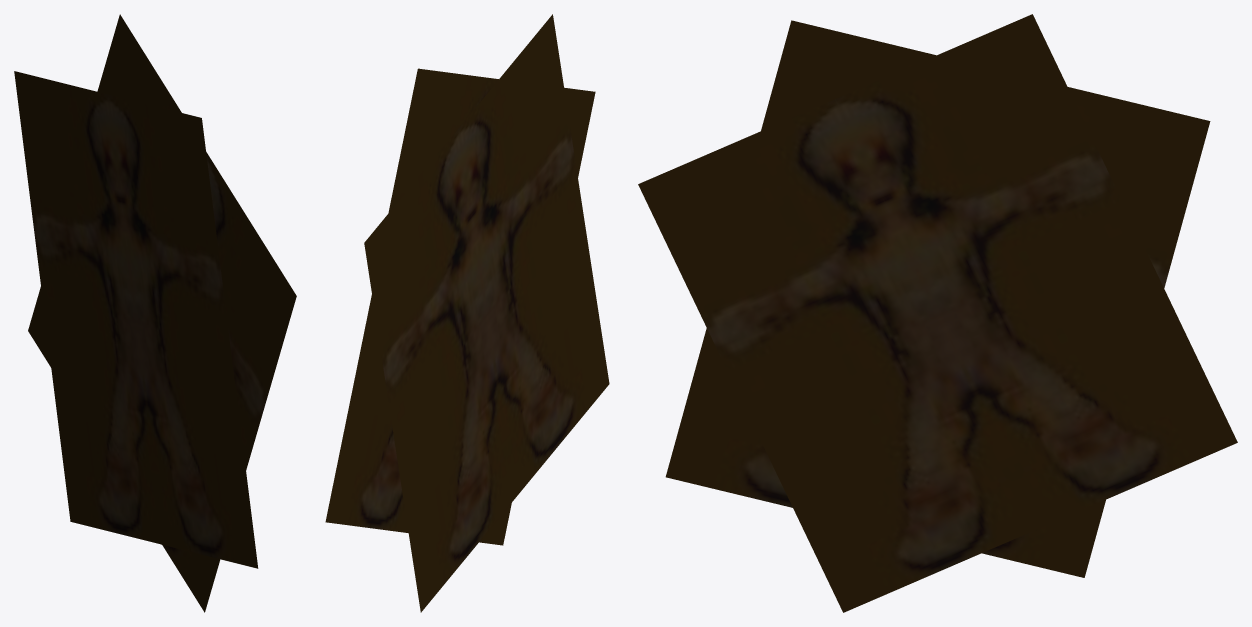
Rendered from sign1_eng_b_icon_voodoo.fbx.
3 renders of one model, left to right at view 1: azimuth 30°, elevation 25°; view 2: azimuth 150°, elevation 25°; view 3: azimuth 270°, elevation 25°, orthographic. The views are drawn at different scales.
Visible parts, largest first — view 1: icons; view 2: icons; view 3: icons.
Part boxes in pixels (x1,y1,x2,y2): icons: (14, 14, 296, 612); icons: (325, 14, 609, 612); icons: (638, 14, 1237, 612).
Size of the model in its own units: 16.67 by 326 by 296.
1 material, 1 textured.
